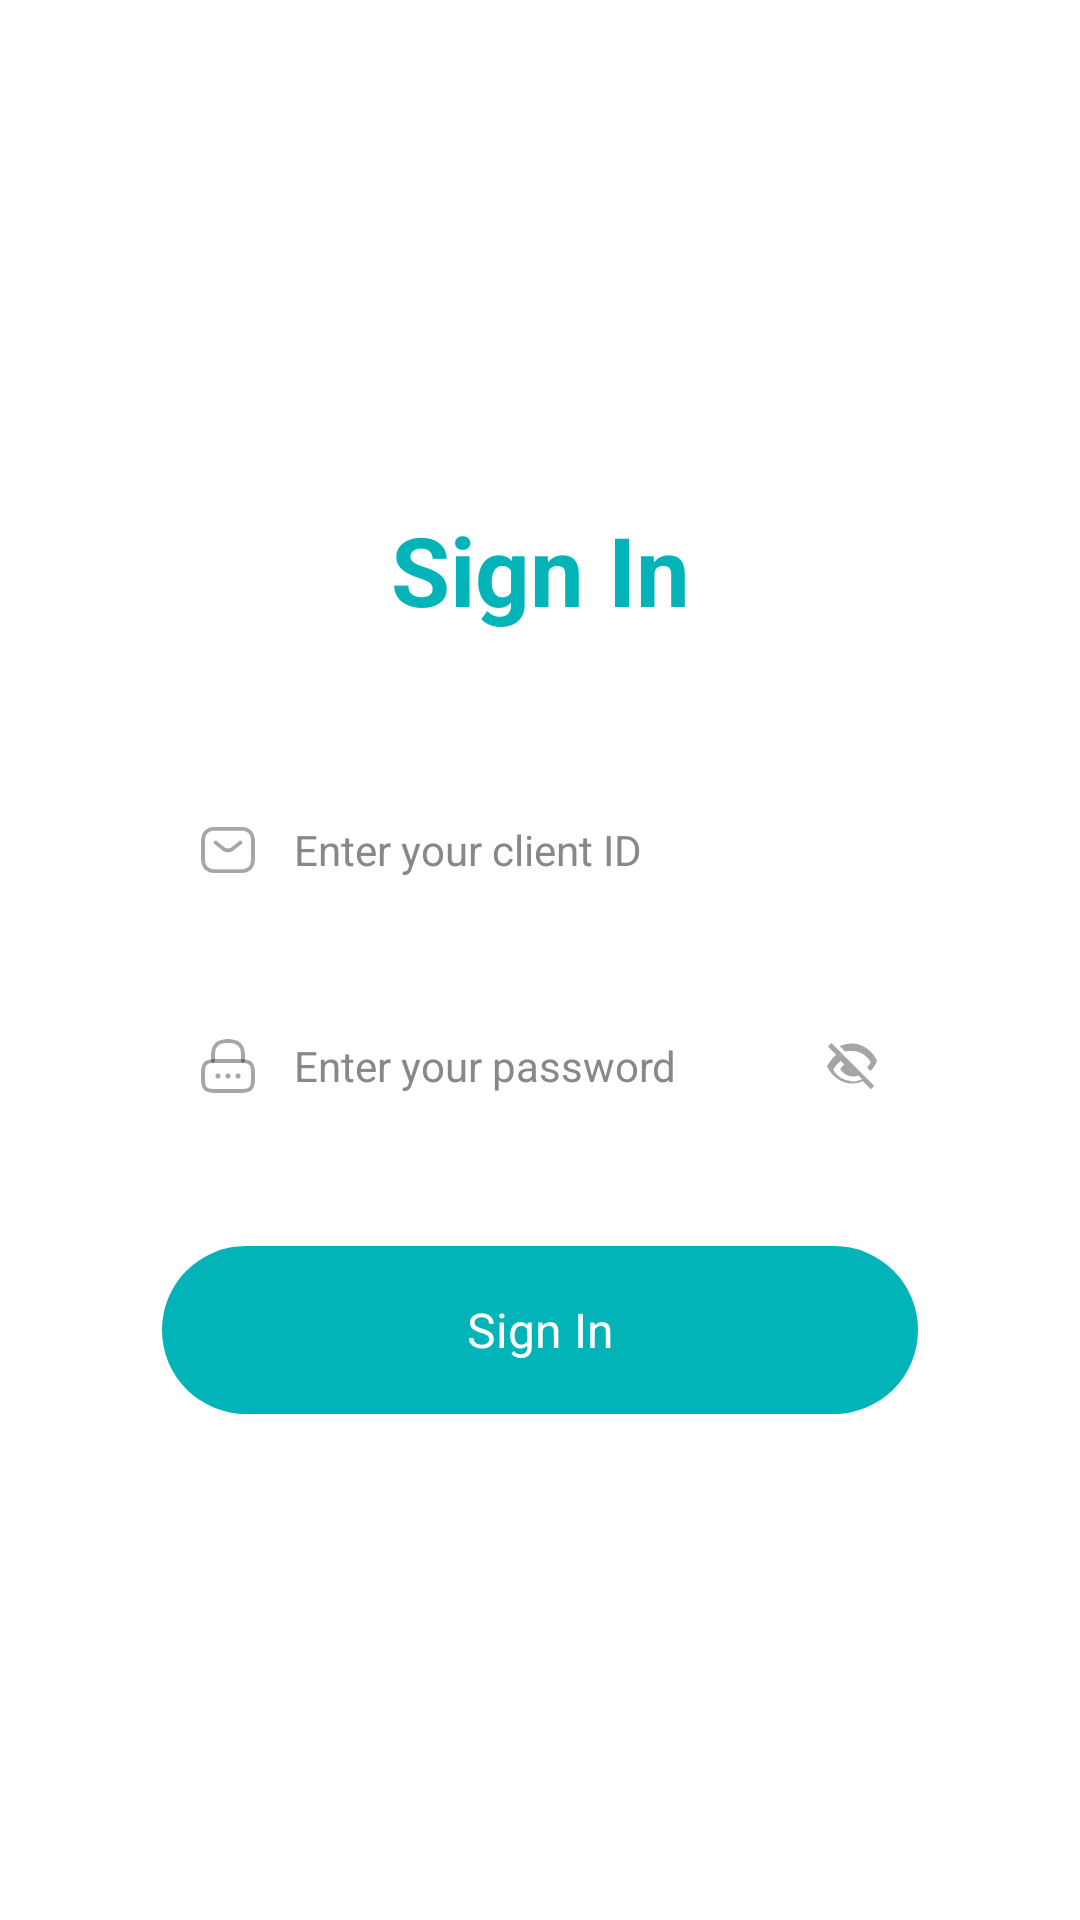

Named icons in this screenshot (1080 x 1920) and their bounding boxes, (x1, y1, x2, y2):
Email: (201, 827, 255, 873)
Toggle Password: (827, 1043, 877, 1089)
